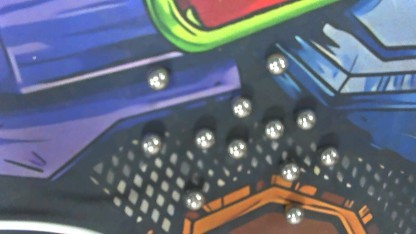ironball: (137, 132, 166, 159), (143, 63, 170, 90), (264, 50, 288, 75), (261, 117, 285, 142), (275, 157, 300, 181), (183, 189, 206, 215), (293, 107, 314, 132), (192, 126, 214, 148), (317, 146, 339, 166), (226, 139, 246, 161), (232, 96, 253, 115), (284, 205, 300, 227)
